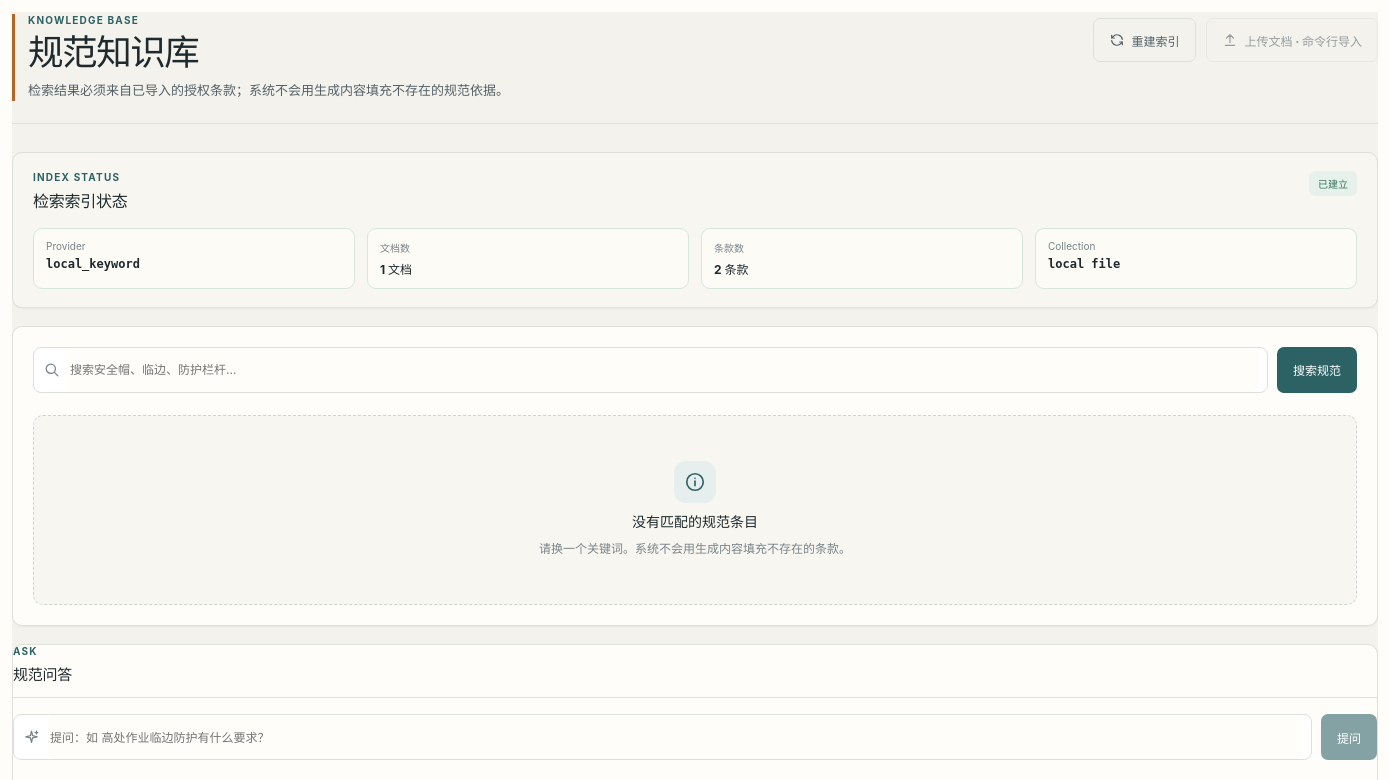
Scenario: KnowledgeBaseView › asks a question and renders the rag_only answer, citations, and badge
The image size is (1390, 780).
Type "高处作业临边防护有什么要求？" into the field with placeholder "提问：如 高处作业临边防护有什么要求？" at (674, 737), box [47,715,1302,759]
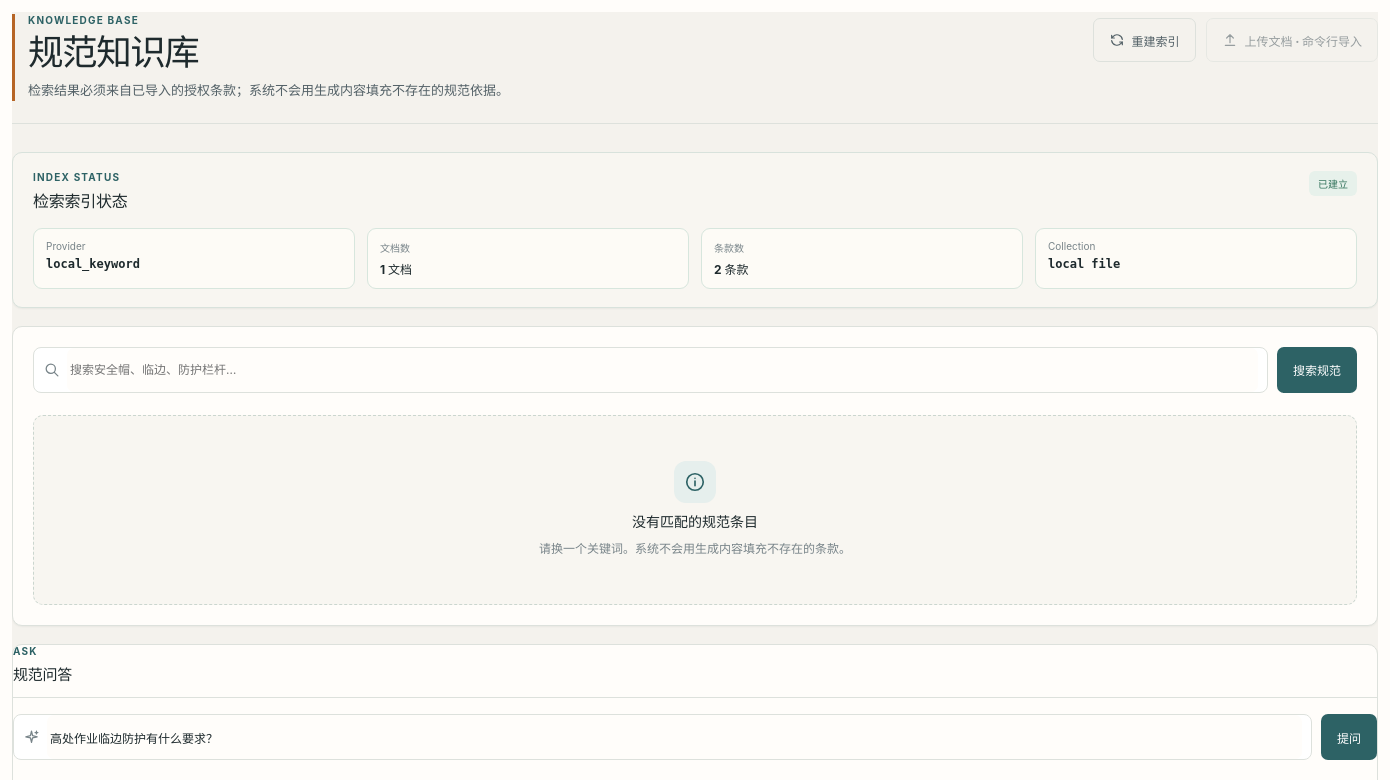
Click the button "提问" at (1349, 737), box [1321,714,1377,760]
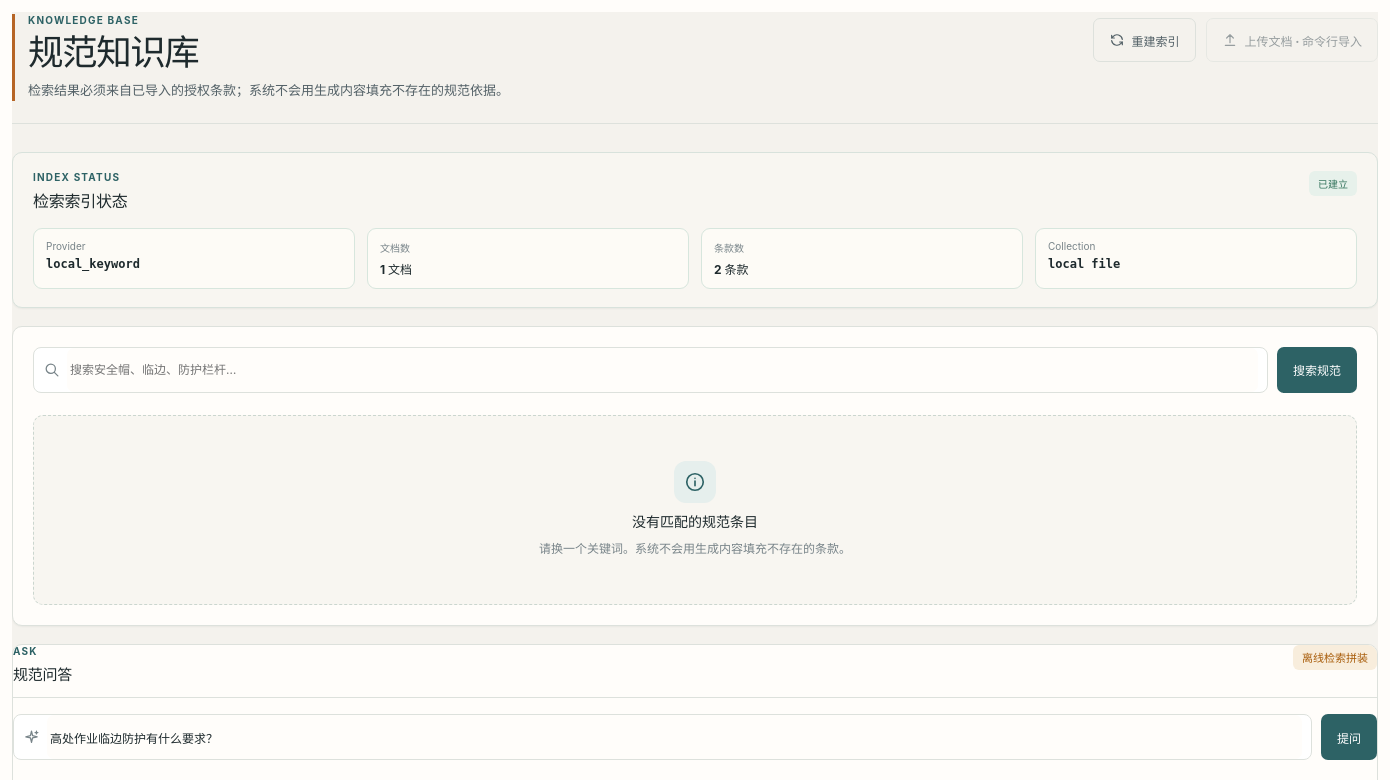
Check: the text "离线检索拼装" is shown, box [1293,645,1377,670]
